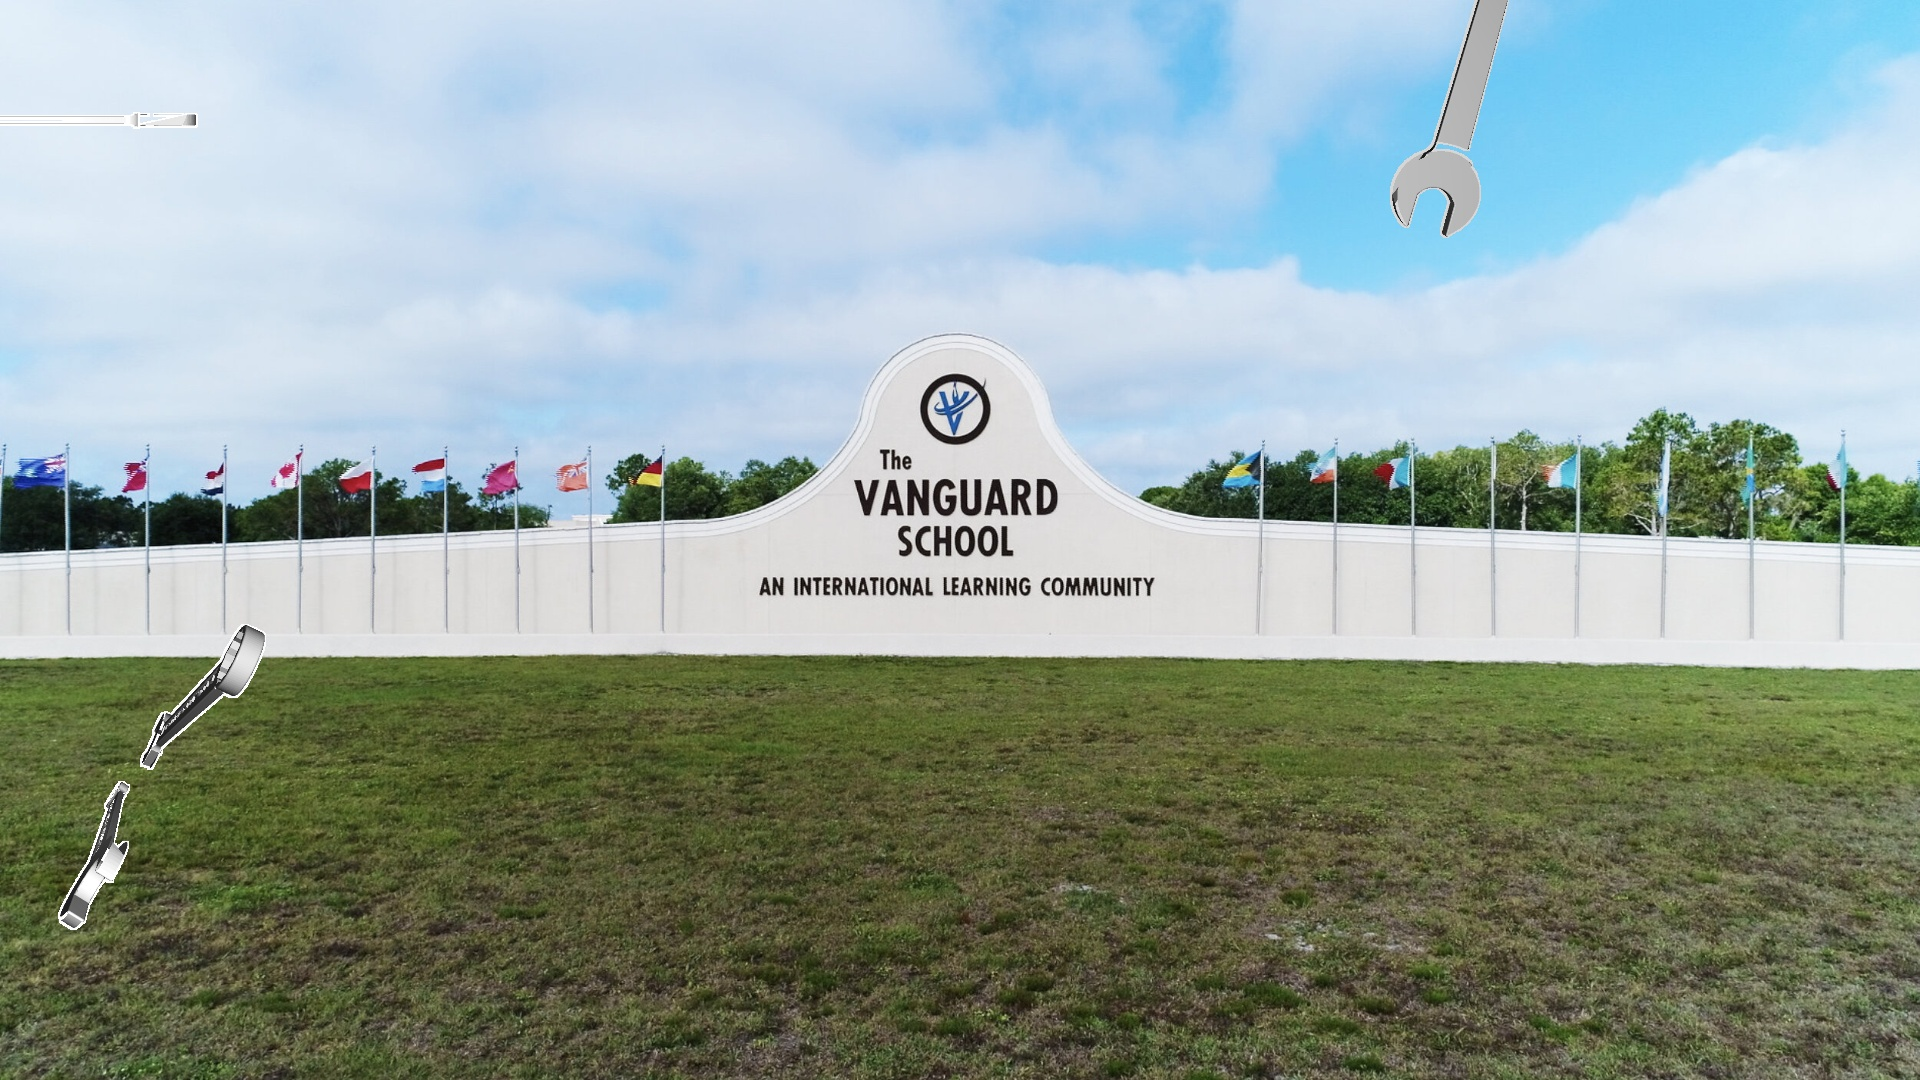Mixed Key: (1390, 0, 1509, 237), (140, 624, 265, 769), (58, 781, 129, 928), (0, 112, 196, 128)
